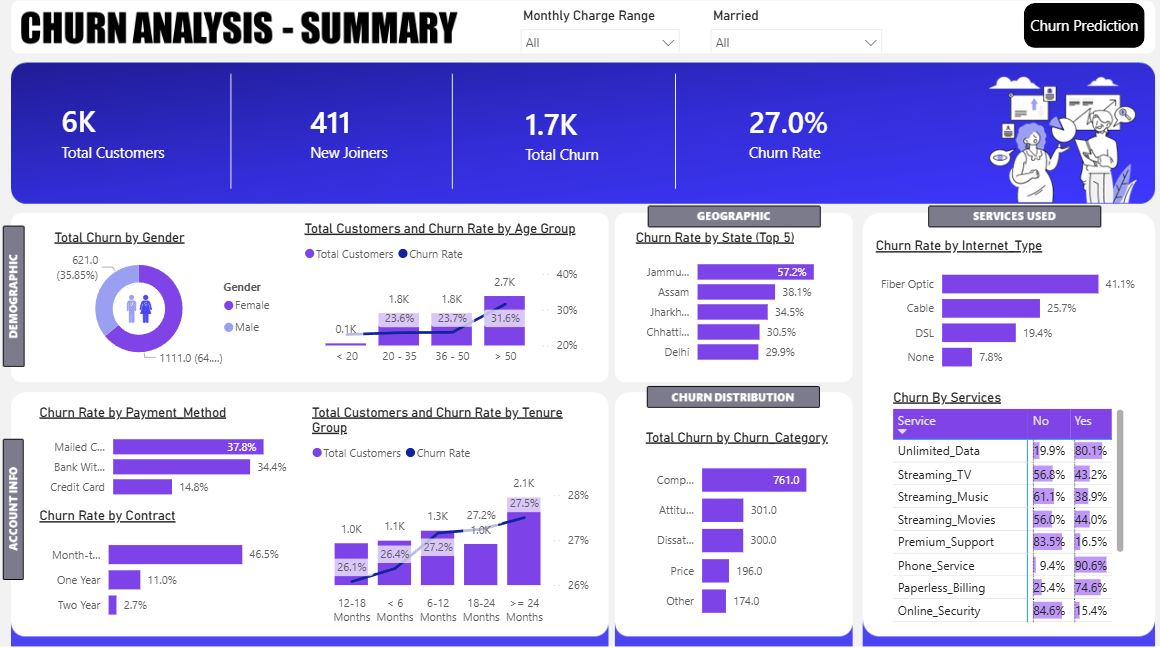

The dashboard page shown, as its layout file describes it:
{"tool":"powerbi","page":{"name":"Summary","canvas":[1280,720],"ordinal":0},"visuals":[{"type":"image","box":[133.1,314.2,39.8,64.5],"z":0},{"type":"cardVisual","fields":{"Data":["pbl_measures.Total Customers"]},"box":[38.4,78.2,231.9,146.8],"z":1000},{"type":"cardVisual","fields":{"Data":["pbl_measures.New Joiners"]},"box":[311.5,86.4,208.6,131.7],"z":2000},{"type":"cardVisual","fields":{"Data":["pbl_measures.Total Churn"]},"box":[547.5,89.2,208.6,131.7],"z":3000},{"type":"cardVisual","fields":{"Data":["pbl_measures.Churn Rate"]},"box":[793.1,86.4,208.6,131.7],"z":4000},{"type":"donutChart","fields":{"Category":["prod_Churn.Gender"],"Y":["pbl_measures.Total Churn"]},"box":[54.9,259.3,256.6,157.8],"z":5000},{"type":"lineStackedColumnComboChart","fields":{"Category":["Mapping_AgeGrp.Age Group"],"Y":["pbl_measures.Total Customers"],"Y2":["pbl_measures.Churn Rate"]},"box":[329.3,249.7,310.1,167.4],"z":6000},{"type":"clusteredBarChart","fields":{"Category":["prod_Churn.Payment_Method"],"Y":["pbl_measures.Churn Rate"]},"box":[38.4,451.5,290.9,113.9],"z":7000},{"type":"clusteredBarChart","fields":{"Category":["prod_Churn.Contract"],"Y":["pbl_measures.Churn Rate"]},"box":[38.4,565.4,273.1,134.5],"z":8000},{"type":"lineStackedColumnComboChart","fields":{"Y":["pbl_measures.Total Customers"],"Category":["prod_Churn (2).Tenure Group "],"Y2":["pbl_measures.Churn Rate"]},"box":[337.6,451.5,314.2,249.7],"z":9000},{"type":"clusteredBarChart","title":"Churn Rate by State (Top 5)","fields":{"Category":["prod_Churn.State"],"Y":["pbl_measures.Churn Rate"]},"box":[693,259.3,238.8,157.8],"z":10000},{"type":"clusteredBarChart","fields":{"Category":["prod_Churn.Churn_Category"],"Y":["pbl_measures.Total Churn"]},"box":[703.9,478.9,216.8,220.9],"z":11000},{"type":"clusteredBarChart","fields":{"Category":["prod_Churn.Internet_Type"],"Y":["pbl_measures.Churn Rate"]},"box":[956.4,269,300.5,157.8],"z":12000},{"type":"pivotTable","title":"Churn By Services","fields":{"Rows":["prod_Services.Services"],"Values":["Sum(prod_Services.Churn Status)"],"Columns":["prod_Services.Status"]},"box":[975.6,435,263.5,260.7],"z":13000},{"type":"slicer","fields":{"Values":["prod_Churn.Monthly Charge Status "]},"box":[561.2,11,194.9,53.5],"z":14000},{"type":"slicer","fields":{"Values":["prod_Churn.Married"]},"box":[769.8,11,208.6,53.5],"z":15000},{"type":"shape","box":[1123.3,11,132.9,49.3],"z":15001}]}

Visuals, with their boxes in screenshot pixels (x1, y1, x2, y2), scaled from the page's 1280x720 canvas onto the 1160x648 screenshot:
image: bbox(121, 283, 157, 341)
cardVisual - pbl_measures.Total Customers: bbox(35, 70, 245, 202)
cardVisual - pbl_measures.New Joiners: bbox(282, 78, 471, 196)
cardVisual - pbl_measures.Total Churn: bbox(496, 80, 685, 199)
cardVisual - pbl_measures.Churn Rate: bbox(719, 78, 908, 196)
donutChart - prod_Churn.Gender x pbl_measures.Total Churn: bbox(50, 233, 282, 375)
lineStackedColumnComboChart - Mapping_AgeGrp.Age Group x pbl_measures.Total Customers: bbox(298, 225, 579, 375)
clusteredBarChart - prod_Churn.Payment_Method x pbl_measures.Churn Rate: bbox(35, 406, 298, 509)
clusteredBarChart - prod_Churn.Contract x pbl_measures.Churn Rate: bbox(35, 509, 282, 630)
lineStackedColumnComboChart - pbl_measures.Total Customers x prod_Churn (2).Tenure Group : bbox(306, 406, 591, 631)
"Churn Rate by State (Top 5)" clusteredBarChart: bbox(628, 233, 844, 375)
clusteredBarChart - prod_Churn.Churn_Category x pbl_measures.Total Churn: bbox(638, 431, 834, 630)
clusteredBarChart - prod_Churn.Internet_Type x pbl_measures.Churn Rate: bbox(867, 242, 1139, 384)
"Churn By Services" pivotTable: bbox(884, 392, 1123, 626)
slicer - prod_Churn.Monthly Charge Status : bbox(509, 10, 685, 58)
slicer - prod_Churn.Married: bbox(698, 10, 887, 58)
shape: bbox(1018, 10, 1138, 54)
